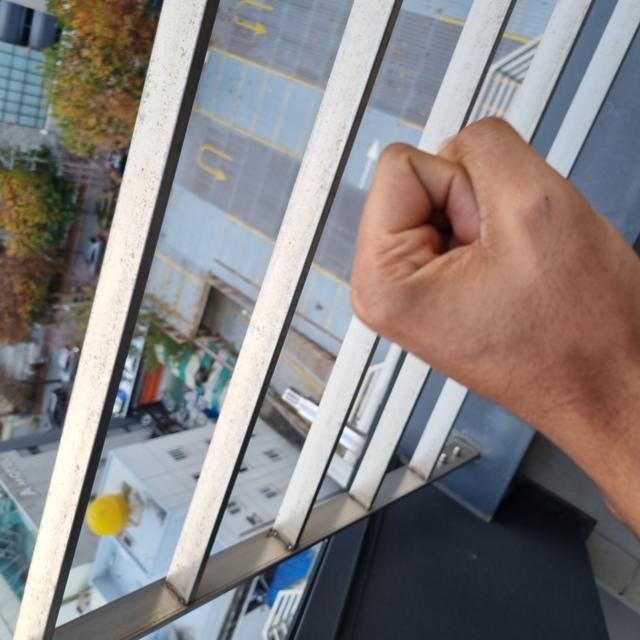Rock: (149, 353, 521, 638)
